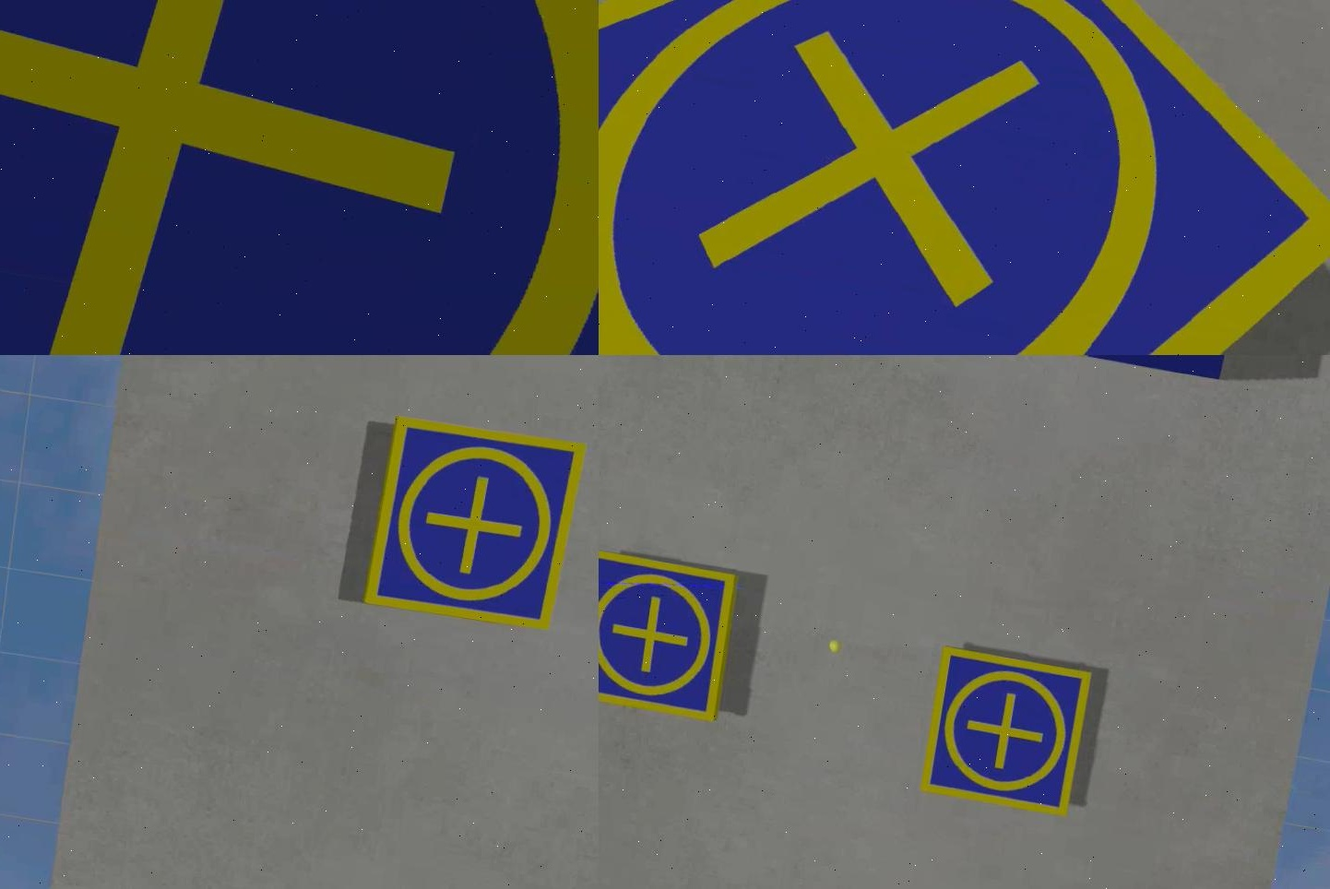large_base: (0, 1, 598, 356)
small_base: (598, 1, 1328, 356), (356, 409, 589, 637), (918, 645, 1090, 820), (598, 549, 740, 728)
